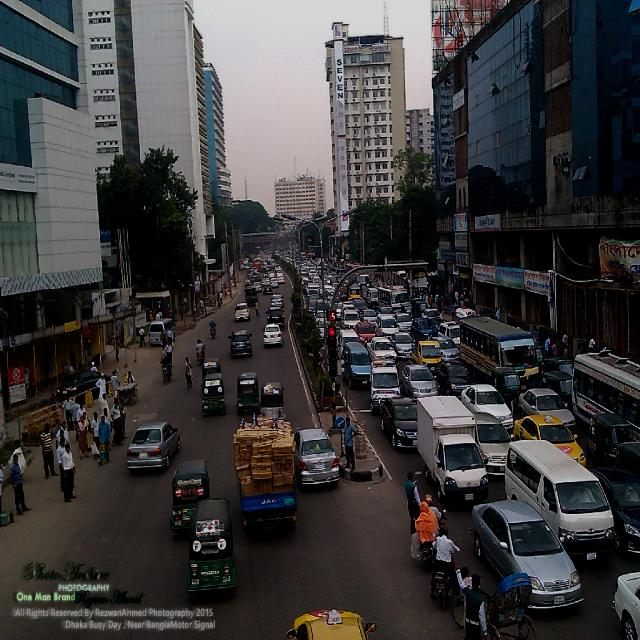black: (380, 398, 426, 452), (227, 329, 254, 360)
blue: (589, 463, 640, 561)
silver: (468, 495, 586, 618), (292, 426, 339, 487), (128, 420, 179, 474), (147, 317, 175, 346)
white: (500, 439, 618, 571), (516, 388, 576, 436), (459, 382, 515, 431), (262, 323, 282, 348)
